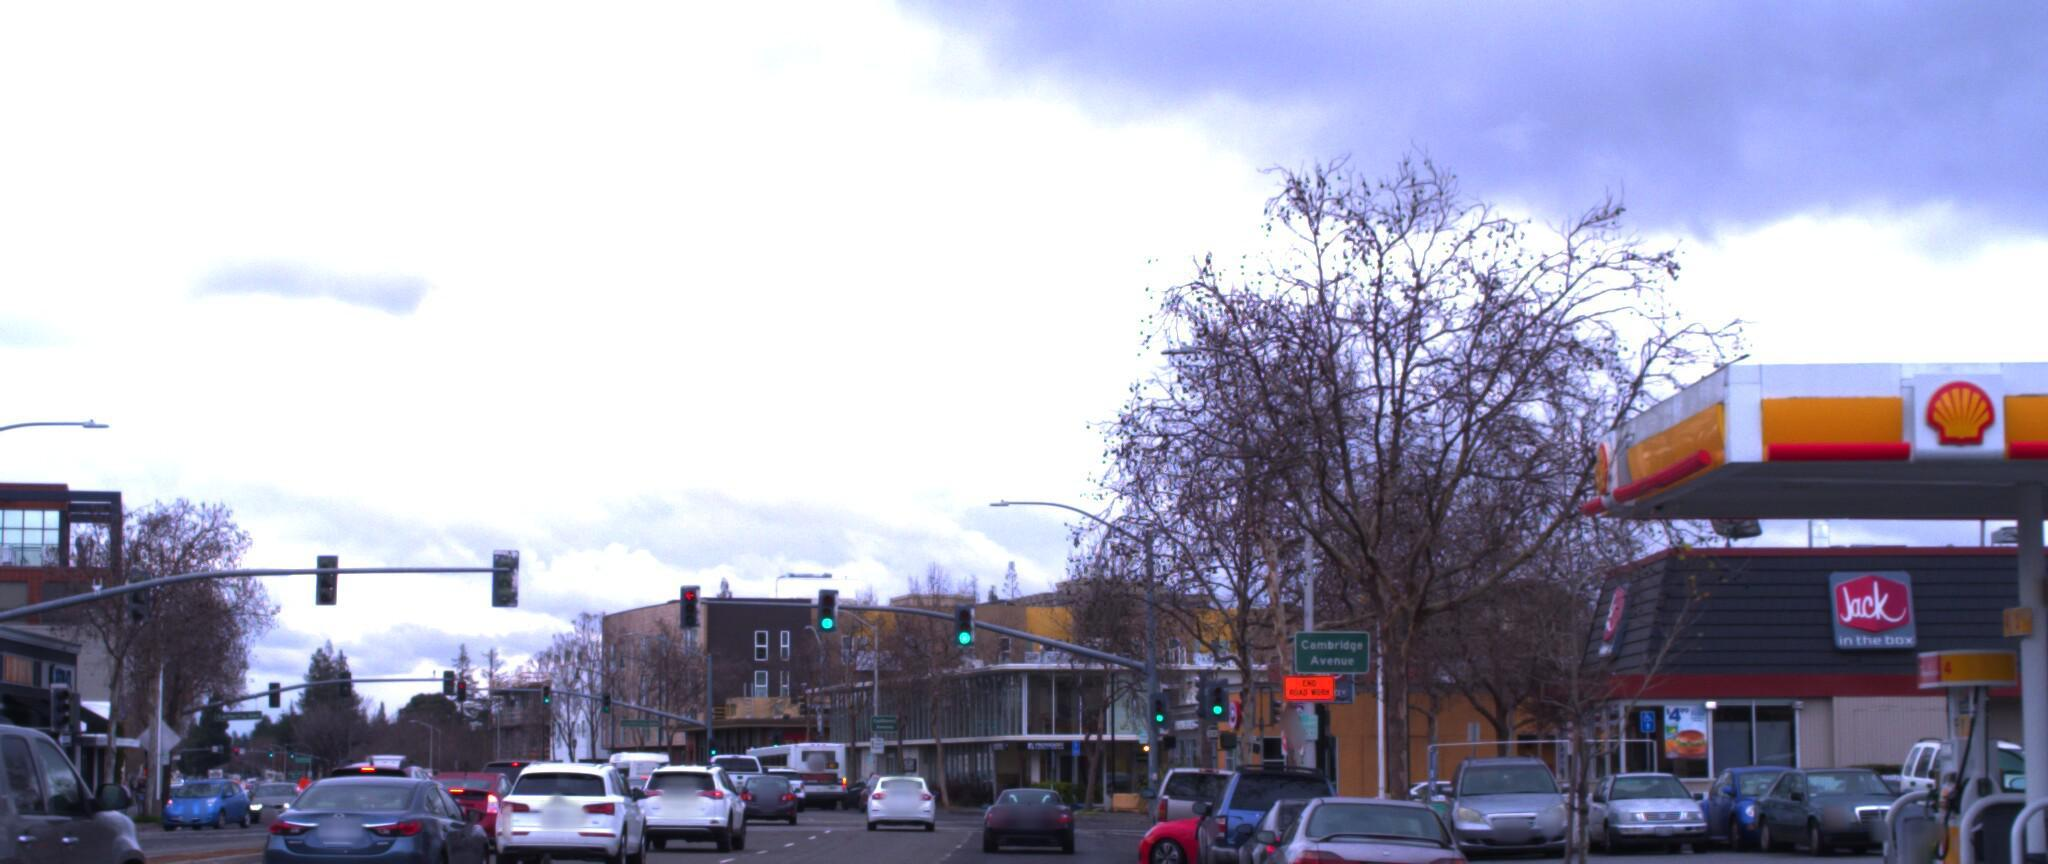car: (0, 689, 174, 864), (249, 770, 508, 864), (1091, 780, 1379, 864), (1243, 779, 1493, 864), (1187, 749, 1356, 864), (1741, 752, 1933, 850), (502, 753, 661, 864), (1435, 732, 1573, 848), (1145, 752, 1276, 861), (1694, 752, 1832, 843), (1576, 757, 1712, 848), (410, 757, 547, 847), (630, 760, 754, 850), (1994, 722, 2048, 864), (977, 765, 1074, 834), (870, 769, 946, 822)
